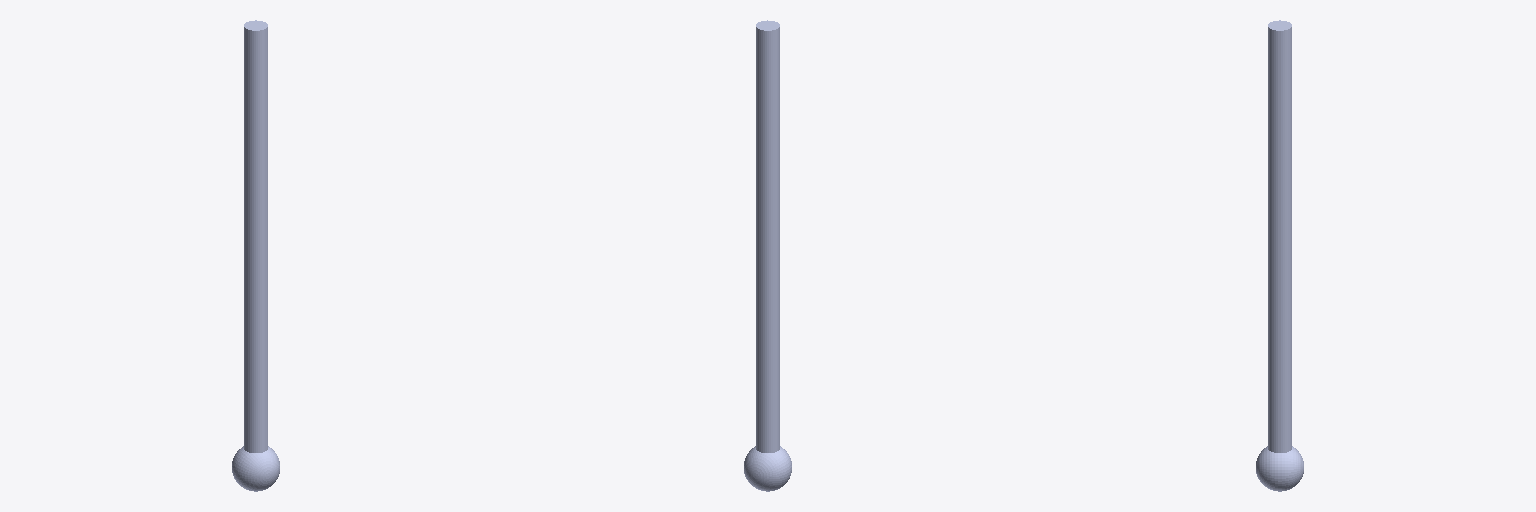
The robot description file, URDF, robot "RodAssembly":
<?xml version="1.0" encoding="utf-8"?>
<!-- This URDF was automatically created by SolidWorks to URDF Exporter! Originally created by [author] ([email redacted]) 
     Commit Version: 1.6.0-4-g7f85cfe  Build Version: 1.6.7995.38578
     For more information, please see http://wiki.ros.org/sw_urdf_exporter -->
<robot
  name="RodAssembly">
  <link
    name="base_link">
    <inertial>
      <origin
        xyz="0 0 0"
        rpy="0 0 0" />
      <mass
        value="0.015707963267949" />
      <inertia
        ixx="5.24580523302545E-05"
        ixy="0"
        ixz="0"
        iyy="1.96349540849362E-07"
        iyz="0"
        izz="5.24580523302545E-05" />
    </inertial>
    <visual>
      <origin
        xyz="0 0 0"
        rpy="0 0 0" />
      <geometry>
        <mesh
          filename="../meshes/base_link.STL" />
      </geometry>
      <material
        name="">
        <color
          rgba="0.792156862745098 0.819607843137255 0.933333333333333 1" />
      </material>
    </visual>
    <collision>
      <origin
        xyz="0 0 0"
        rpy="0 0 0" />
      <geometry>
        <mesh
          filename="../meshes/base_link.STL" />
      </geometry>
    </collision>
  </link>
  <link
    name="top_endpoint">
    <inertial>
      <origin
        xyz="0 0 0"
        rpy="0 0 0" />
      <mass
        value="0.00418879020478639" />
      <inertia
        ixx="1.67551608191456E-07"
        ixy="0"
        ixz="0"
        iyy="1.67551608191456E-07"
        iyz="0"
        izz="1.67551608191456E-07" />
    </inertial>
    <visual>
      <origin
        xyz="0 0 0"
        rpy="0 0 0" />
      <geometry>
        <mesh
          filename="../meshes/top_endpoint.STL" />
      </geometry>
      <material
        name="">
        <color
          rgba="0.792156862745098 0.819607843137255 0.933333333333333 1" />
      </material>
    </visual>
    <collision>
      <origin
        xyz="0 0 0"
        rpy="0 0 0" />
      <geometry>
        <mesh
          filename="../meshes/top_endpoint.STL" />
      </geometry>
    </collision>
  </link>
  <joint
    name="top_fixed"
    type="fixed">
    <origin
      xyz="0 0 0.1"
      rpy="1.5708 0 0" />
    <parent
      link="base_link" />
    <child
      link="top_endpoint" />
    <axis
      xyz="0 0 0" />
  </joint>
  <link
    name="bottom_endpoint">
    <inertial>
      <origin
        xyz="0 0 0"
        rpy="0 0 0" />
      <mass
        value="0.00418879020478639" />
      <inertia
        ixx="1.67551608191456E-07"
        ixy="0"
        ixz="0"
        iyy="1.67551608191456E-07"
        iyz="0"
        izz="1.67551608191456E-07" />
    </inertial>
    <visual>
      <origin
        xyz="0 0 0"
        rpy="0 0 0" />
      <geometry>
        <mesh
          filename="../meshes/bottom_endpoint.STL" />
      </geometry>
      <material
        name="">
        <color
          rgba="0.792156862745098 0.819607843137255 0.933333333333333 1" />
      </material>
    </visual>
    <collision>
      <origin
        xyz="0 0 0"
        rpy="0 0 0" />
      <geometry>
        <mesh
          filename="../meshes/bottom_endpoint.STL" />
      </geometry>
    </collision>
  </link>
  <joint
    name="bottom_fixed"
    type="fixed">
    <origin
      xyz="0 0 -0.1"
      rpy="1.5708 0 0" />
    <parent
      link="base_link" />
    <child
      link="bottom_endpoint" />
    <axis
      xyz="0 0 0" />
  </joint>
</robot>

--- What the picture shows (computed from the rendered views, not written in the file) ---
The picture shows the robot from 3 angles, left to right: view 1: azimuth 30°, elevation 25°; view 2: azimuth 150°, elevation 25°; view 3: azimuth 270°, elevation 25°; orthographic projection.
Model RodAssembly with 3 links and 2 joints (2 fixed), rooted at base_link, posed every joint at zero.
Links seen in each view (by area): view 1: base_link, bottom_endpoint; view 2: base_link, bottom_endpoint; view 3: base_link, bottom_endpoint.
Link boxes in pixels (box(x1,y1,x2,y2)): base_link: box(244, 20, 267, 452); bottom_endpoint: box(232, 446, 279, 491); base_link: box(756, 20, 779, 452); bottom_endpoint: box(744, 446, 791, 491); base_link: box(1268, 20, 1291, 452); bottom_endpoint: box(1256, 446, 1303, 491).
Bounding box of the posed robot: 0.0199 × 0.02 × 0.21 m (x, y, z).
Meshes: 3 distinct files referenced, 2 mesh visuals loaded (2 binary STL); not drawn: 1 (reference not matched to a file when rendering).
